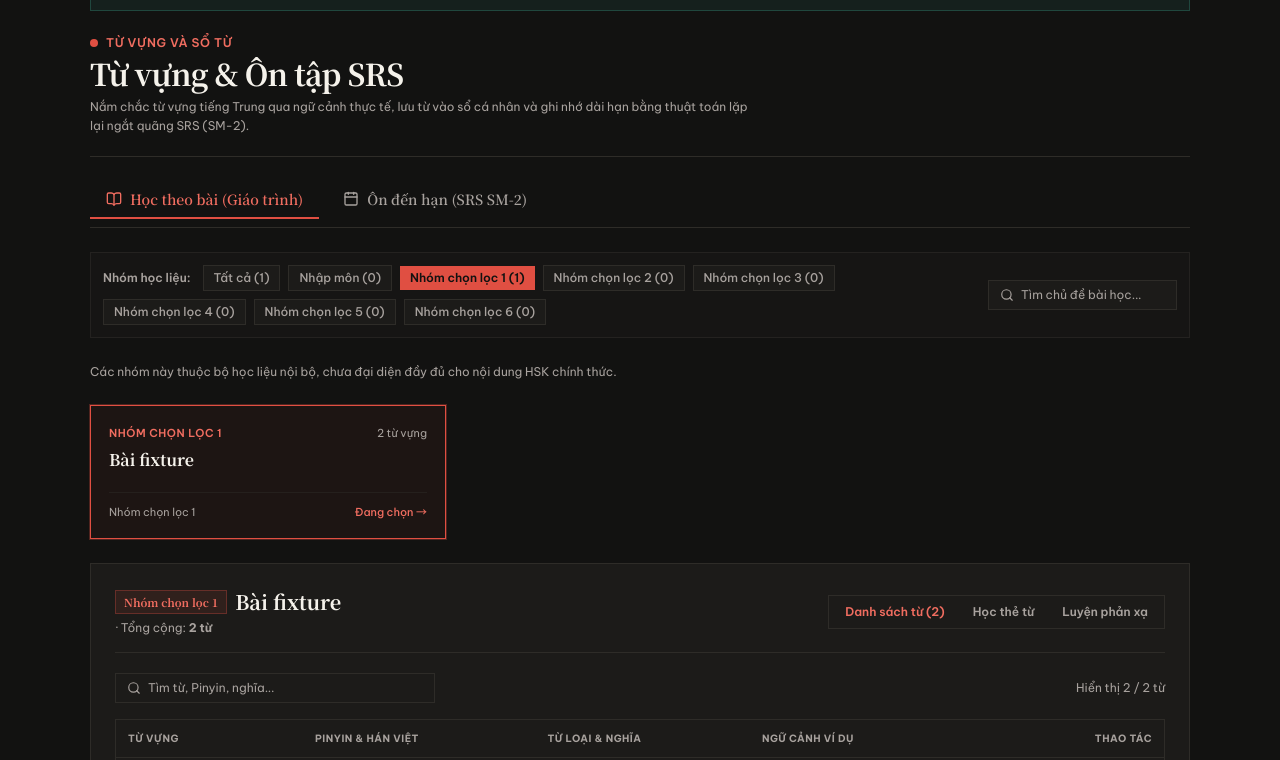
Test case: switching lesson tabs retains the question, score and unfinished Pinyin input
The width and height of the screenshot is (1280, 760).
Click the button "Luyện phản xạ".
click(1105, 612)  # box x1=1050 y1=600 x2=1160 y2=624
(page scrolled)
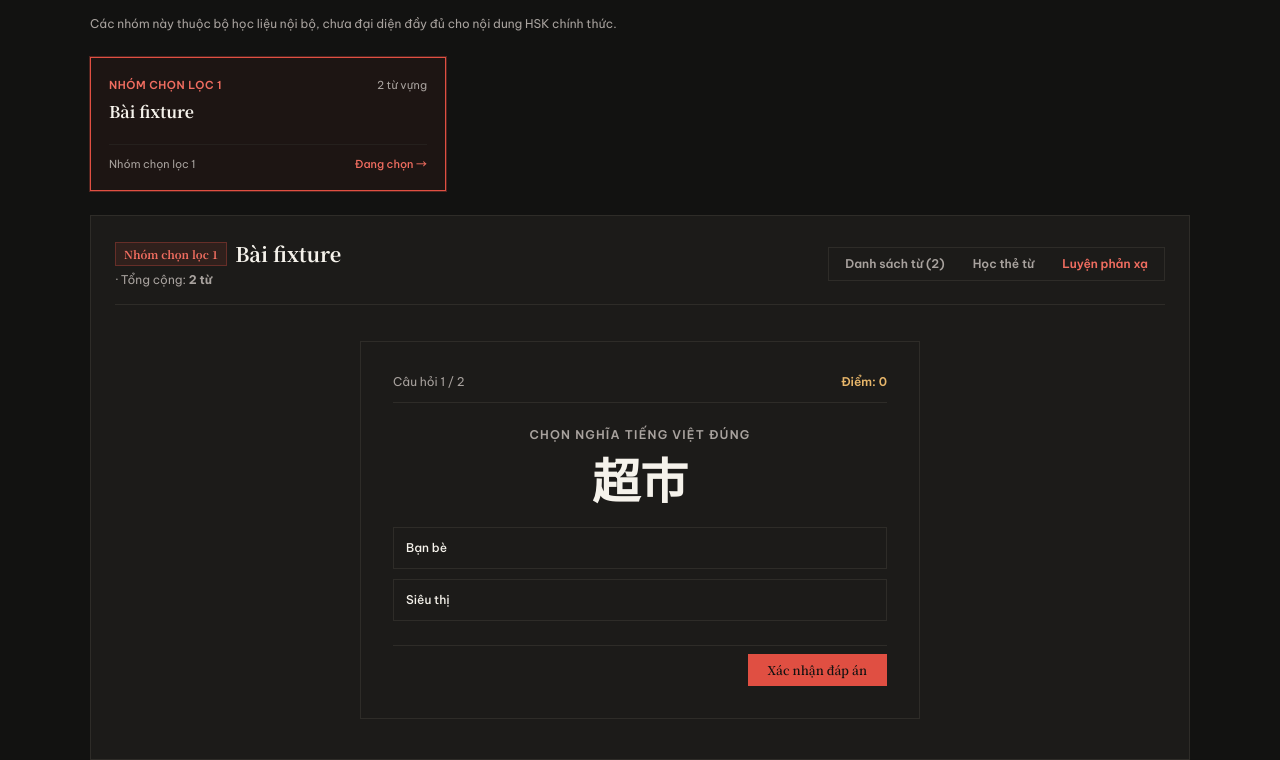
Click the button "Siêu thị".
click(428, 599)  # box x1=393 y1=579 x2=887 y2=621
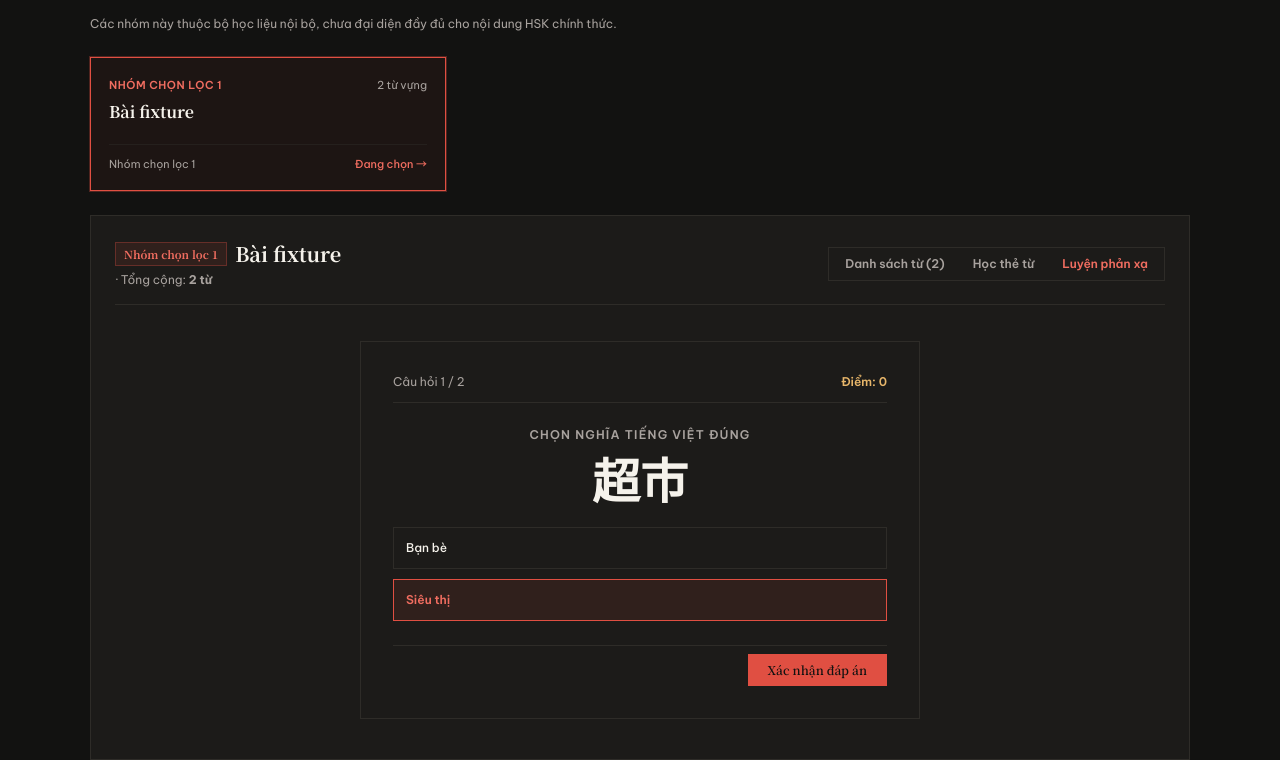
Click the button "Xác nhận đáp án".
click(817, 670)  # box x1=748 y1=654 x2=887 y2=686
(page scrolled)
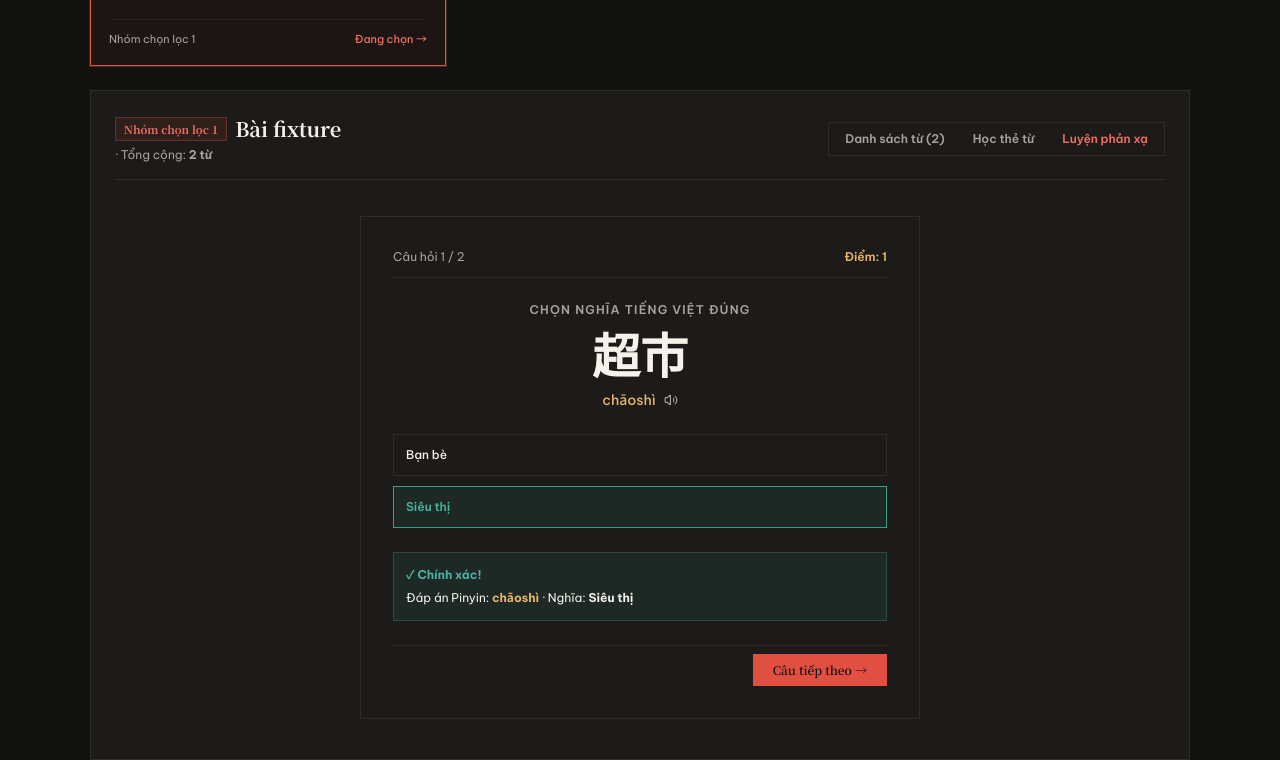
Click the button "Câu tiếp theo →".
click(820, 670)  # box x1=753 y1=654 x2=887 y2=686
(page scrolled)
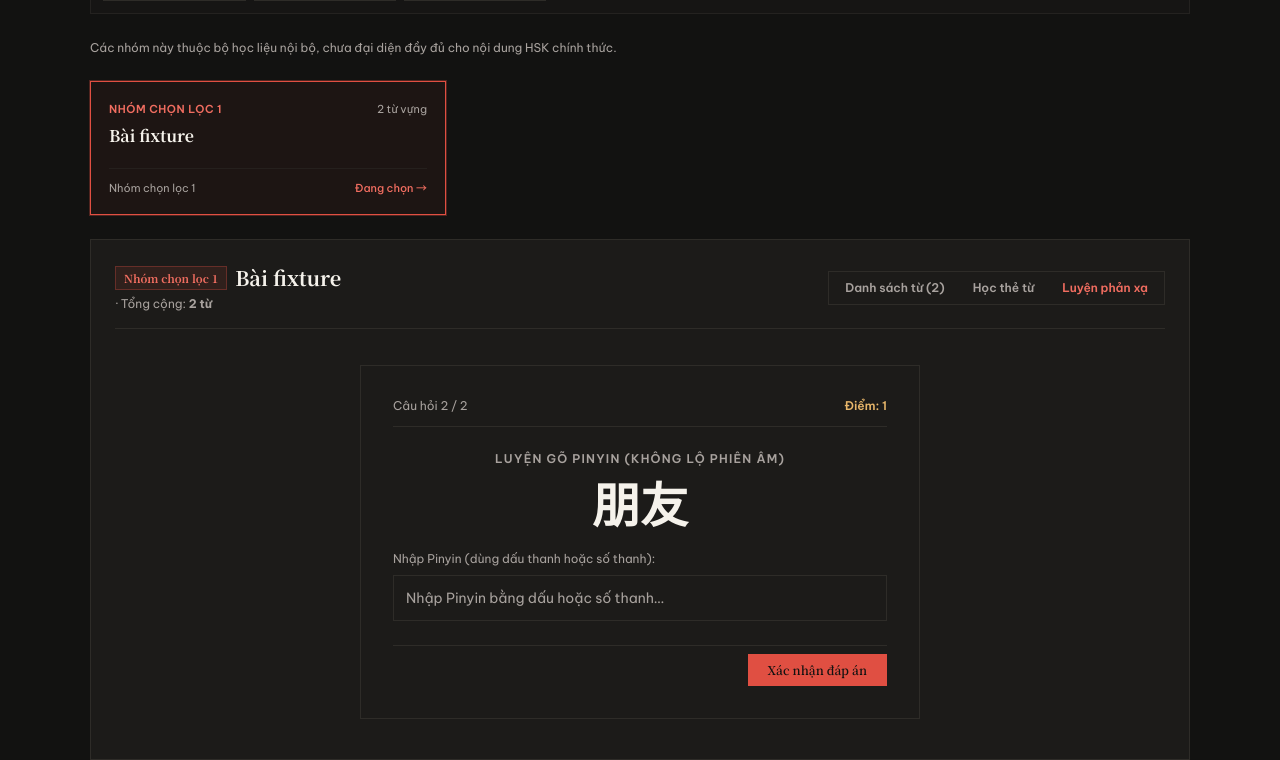
Type "peng2you" into the field labelled "Nhập Pinyin (dùng dấu thanh hoặc số thanh):".
click(640, 598); type("peng2you")  # box x1=393 y1=575 x2=887 y2=621
Click the button "Danh sách từ (2)".
click(895, 288)  # box x1=833 y1=276 x2=957 y2=300
(page scrolled)
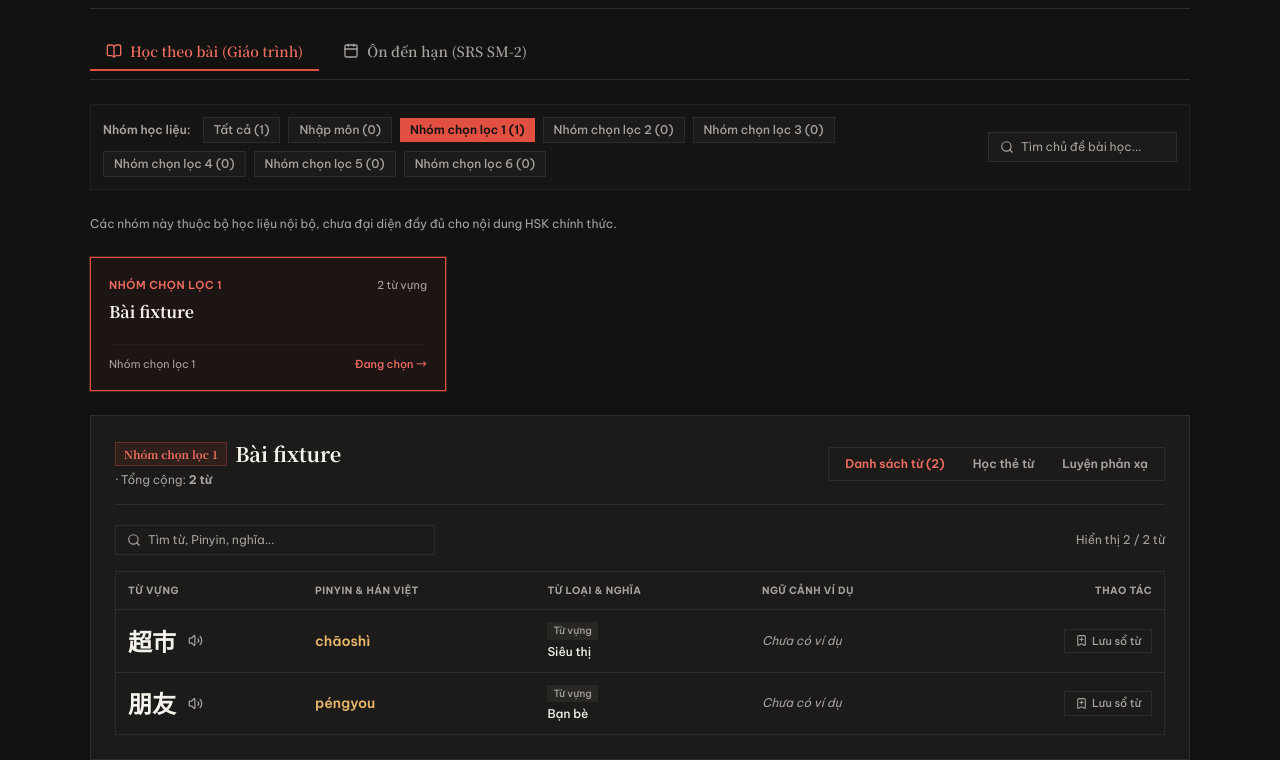
Click the button "Luyện phản xạ".
click(1105, 464)  # box x1=1050 y1=452 x2=1160 y2=476
(page scrolled)
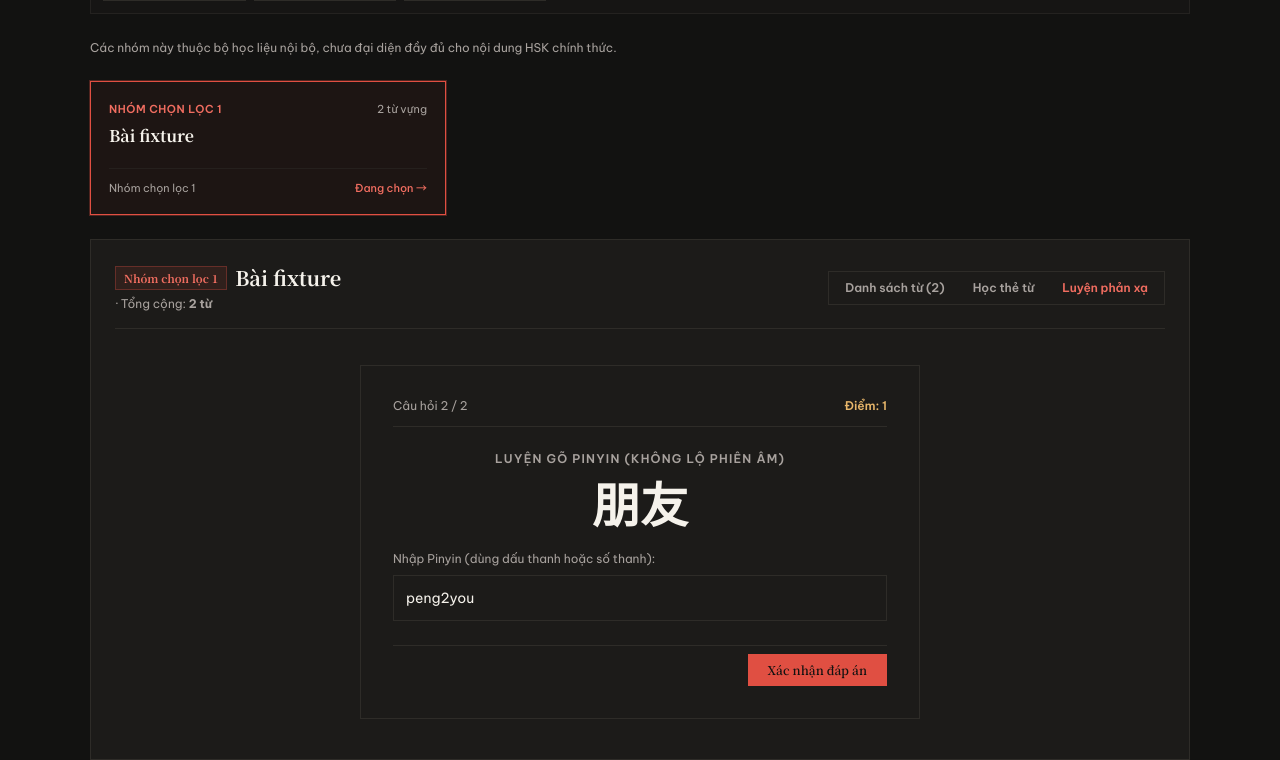
Now the text "Câu hỏi 2 / 2" is shown, box x1=393 y1=398 x2=468 y2=414
Now the text "Điểm: 1" is shown, box x1=844 y1=398 x2=887 y2=414
Now the field labelled "Nhập Pinyin (dùng dấu thanh hoặc số thanh):" holds "peng2you", box x1=393 y1=575 x2=887 y2=621
